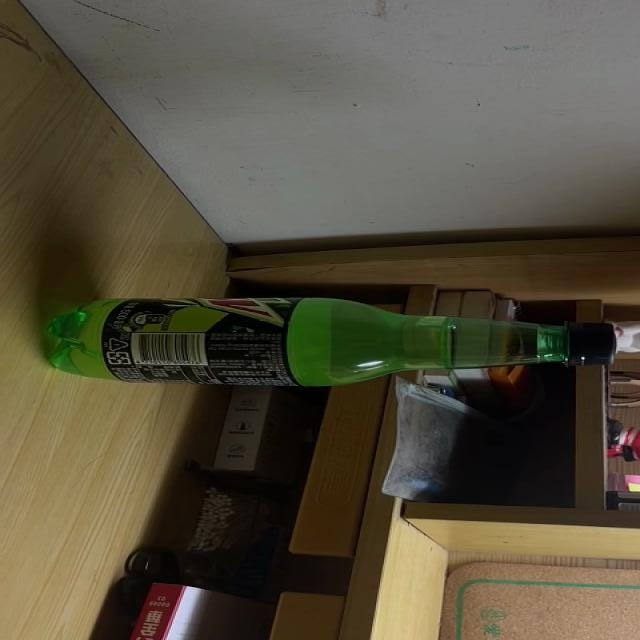Mountain-Dew: (41, 299, 617, 389)
